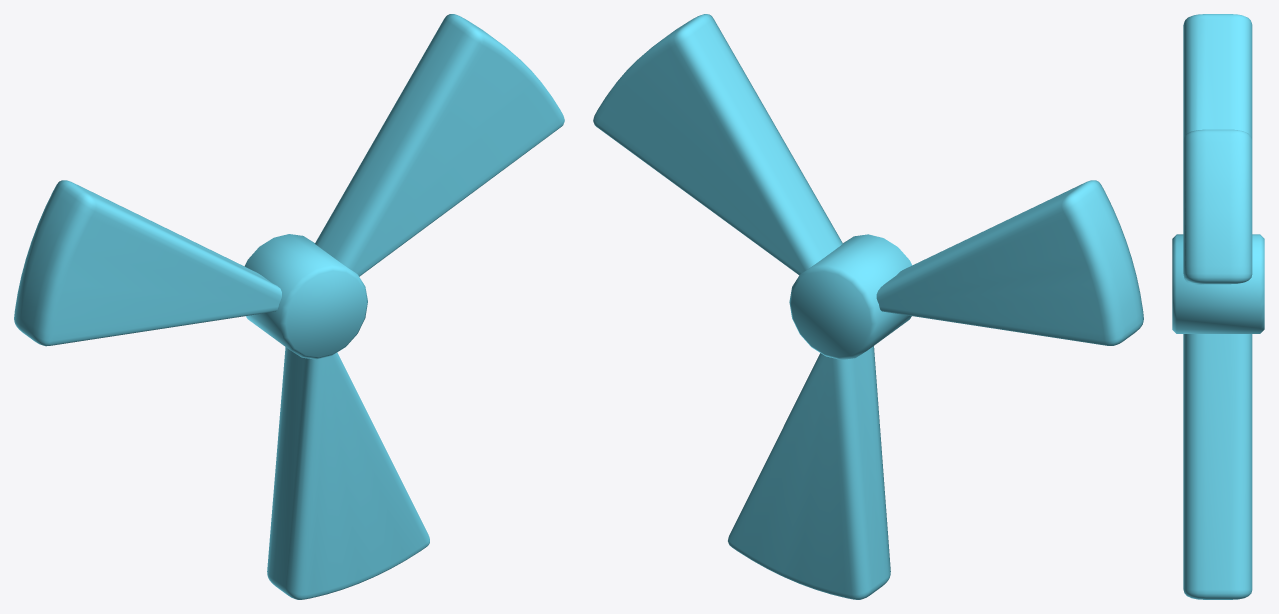
3 renders of one model, left to right at view 1: azimuth 30°, elevation 25°; view 2: azimuth 150°, elevation 25°; view 3: azimuth 270°, elevation 25°, orthographic.
Visible parts, largest first — view 1: d2; view 2: d2; view 3: d2.
Part boxes in pixels (bbox=[...]): d2: bbox=[14, 14, 564, 599]; d2: bbox=[593, 14, 1143, 599]; d2: bbox=[1172, 14, 1264, 599].
Bounding box in the file's own units: 180 × 173 × 27.86.
